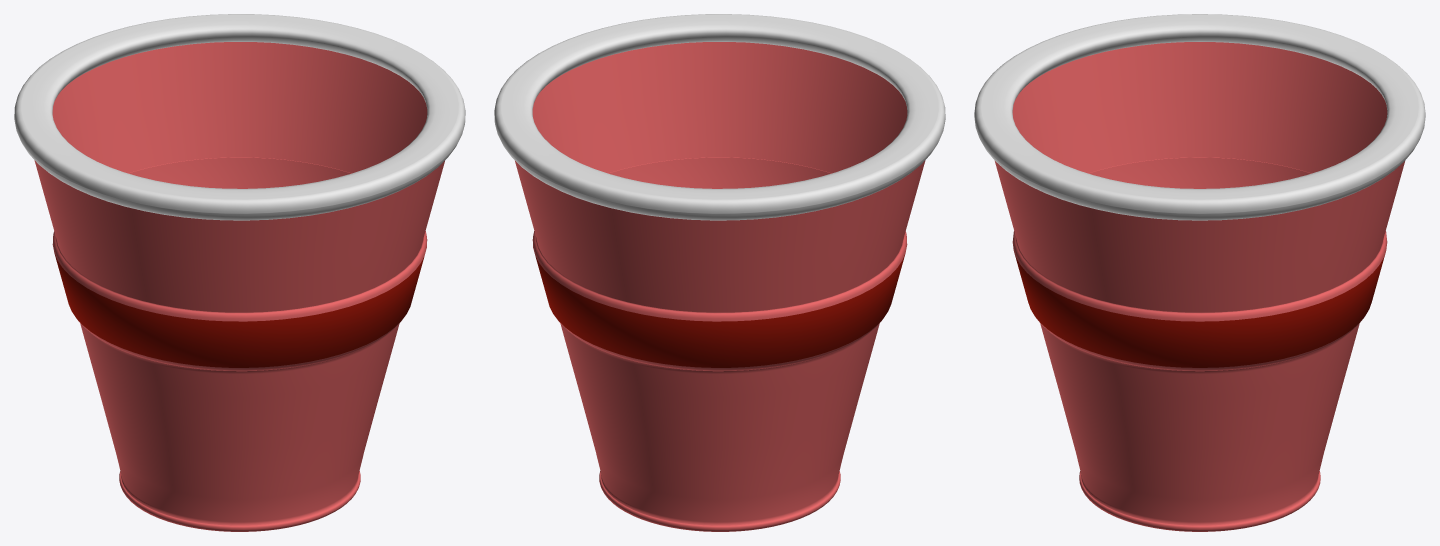
The model's file is FlowerPot.fbx.
3 renders of one model, left to right at view 1: azimuth 30°, elevation 25°; view 2: azimuth 150°, elevation 25°; view 3: azimuth 270°, elevation 25°, orthographic.
Visible parts, largest first — view 1: Cylinder, Cylinder.001; view 2: Cylinder, Cylinder.001; view 3: Cylinder, Cylinder.001.
Boxes of the visible parts, x1,y1,x2,y2 form: Cylinder: (34,42,444,531); Cylinder.001: (14,14,465,220); Cylinder: (515,42,925,531); Cylinder.001: (494,14,945,220); Cylinder: (995,42,1404,531); Cylinder.001: (974,14,1425,220).
Size of the model in its own units: 205 by 188 by 205.
